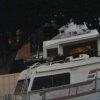Boat: (11, 37, 99, 99)
